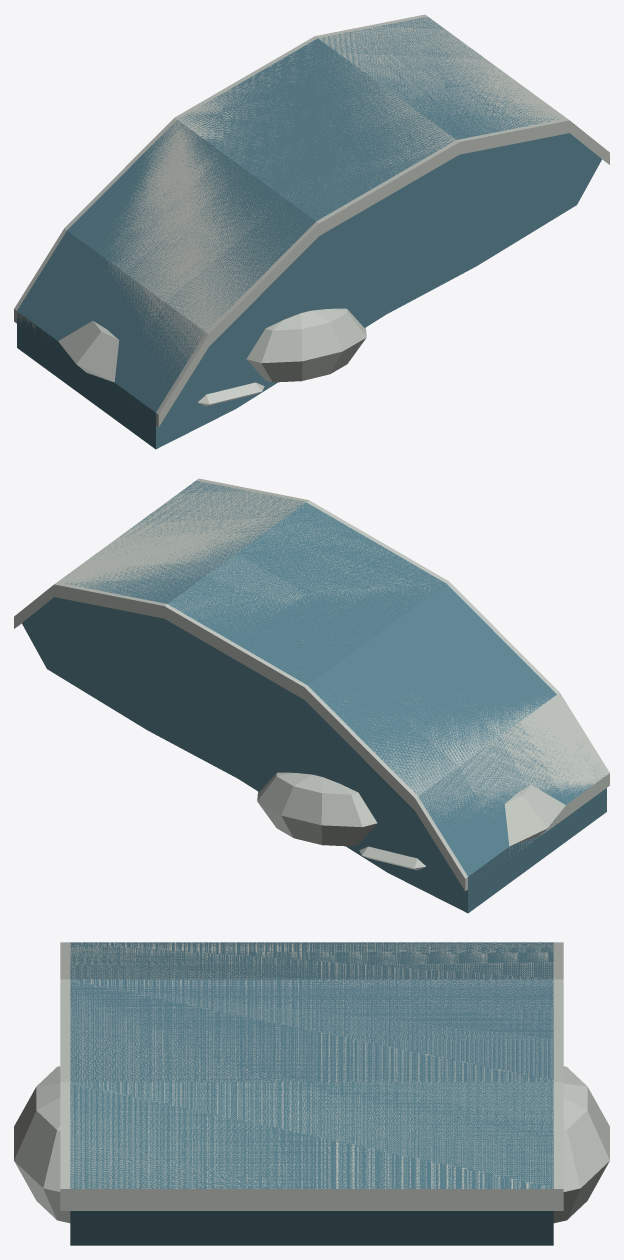
The model's file is Environment_Feature_Snow_SnowWave_001.glb.
3 views of the same model, one above another, from view 1: azimuth 30°, elevation 25°; view 2: azimuth 150°, elevation 25°; view 3: azimuth 270°, elevation 25° (orthographic). The views are drawn at different scales.
Visible parts, largest first — view 1: Environment_Feature_Snow_SnowWave_001; view 2: Environment_Feature_Snow_SnowWave_001; view 3: Environment_Feature_Snow_SnowWave_001.
Boxes of the visible parts, <box> form: Environment_Feature_Snow_SnowWave_001: <box>14,14,609,449</box>; Environment_Feature_Snow_SnowWave_001: <box>14,478,609,913</box>; Environment_Feature_Snow_SnowWave_001: <box>14,942,609,1245</box>.
Size of the model in its own units: 4.6 by 2.26 by 2.96.
